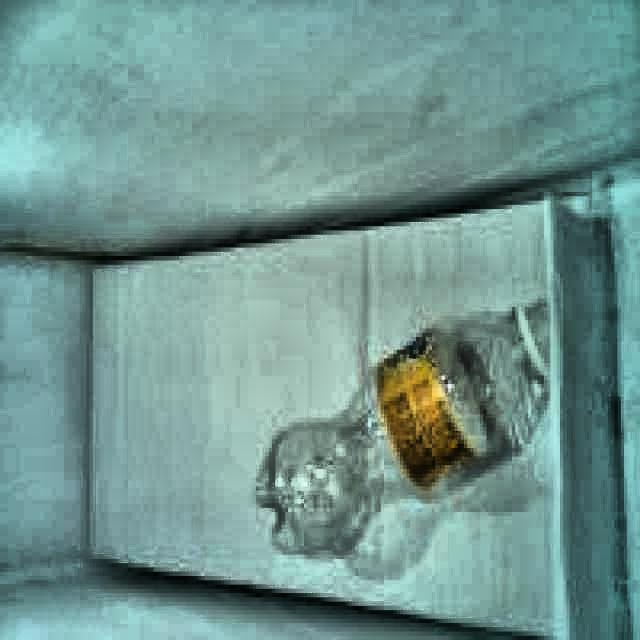plastic bottle: (266, 302, 549, 554)
